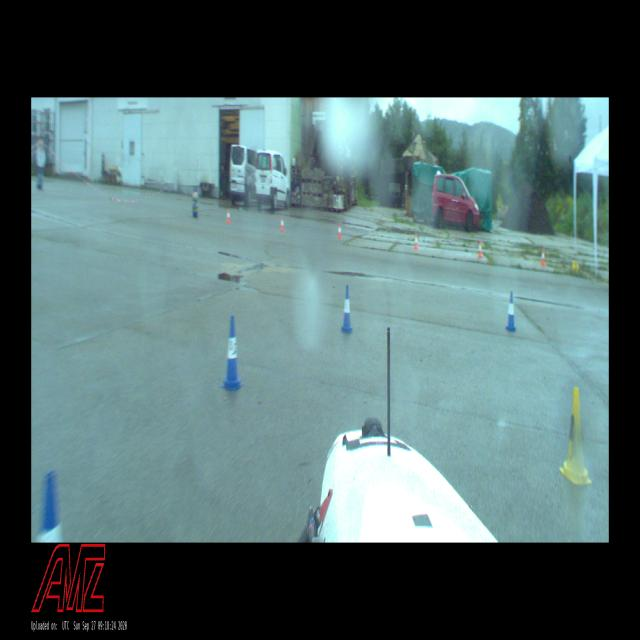blue_cone: (221, 314, 243, 392), (341, 284, 352, 333), (506, 292, 516, 331)
orange_cone: (540, 248, 545, 266), (414, 232, 418, 250), (338, 223, 342, 240), (478, 240, 482, 257), (280, 216, 284, 232), (227, 210, 230, 223)
yellow_cone: (560, 387, 592, 486)
